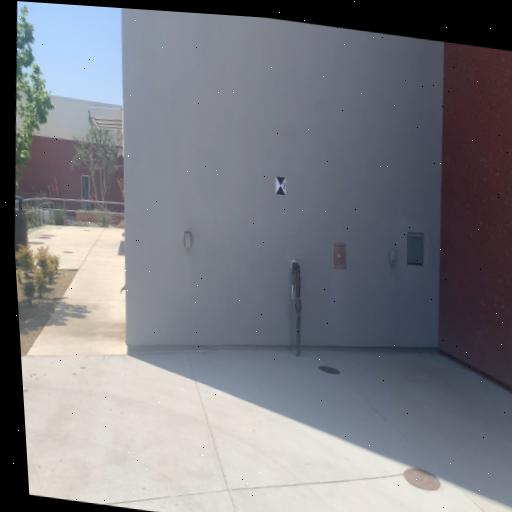target3: (275, 176, 286, 196)
